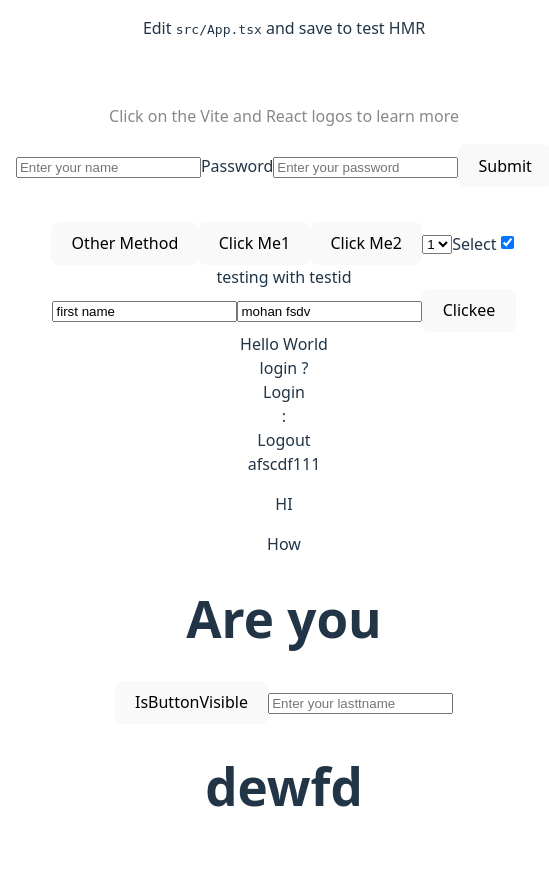
Test: Test with user event library
(page scrolled)
Click the button "IsButtonVisible" at (192, 702), box [115,681,268,724]
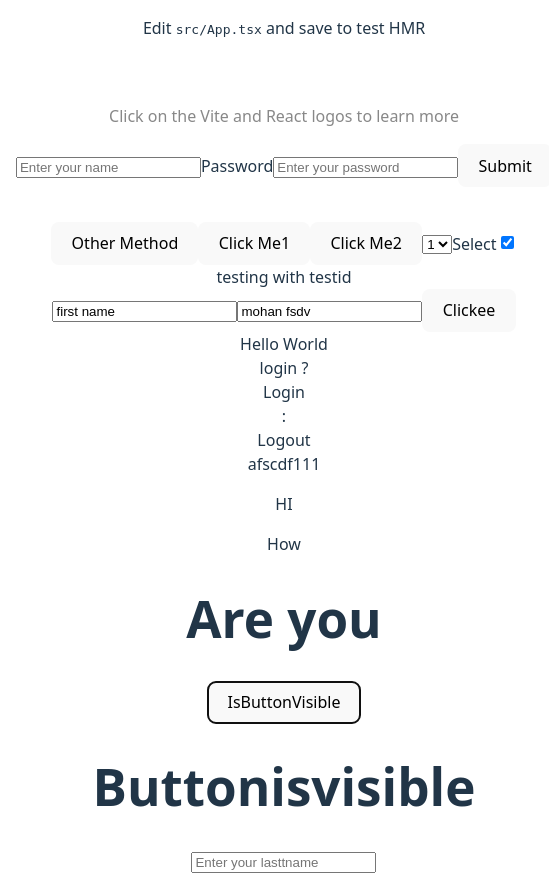
Expected: the heading "Buttonisvisible" is shown, [92,751,475,821]
